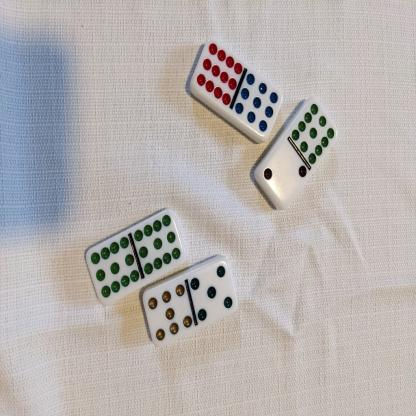pip-11: (86, 235, 139, 302), (132, 209, 184, 274), (291, 98, 337, 164)
pip-12: (192, 38, 242, 104)
pip-2: (260, 146, 306, 206)
pip-5: (190, 258, 238, 320)
pip-7: (142, 282, 192, 344)
pip-9: (235, 73, 284, 136)
